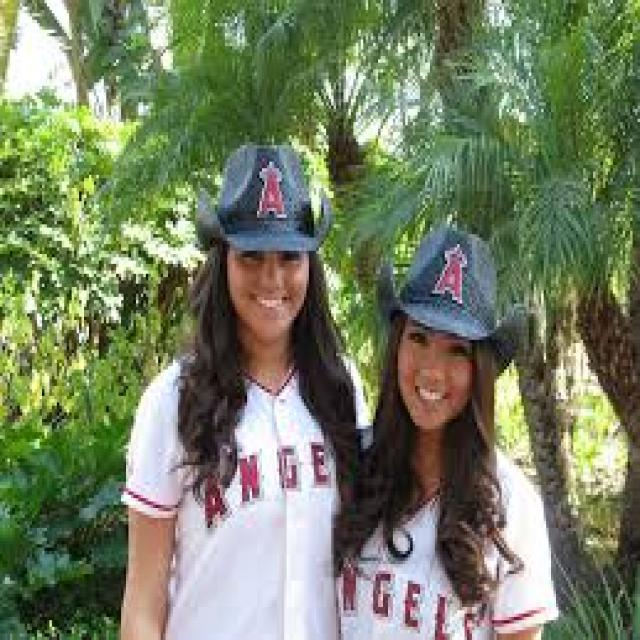hat: (376, 224, 526, 436), (195, 142, 336, 340)
